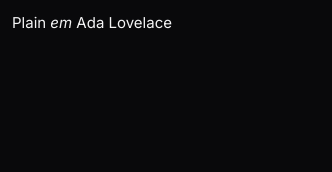
Test: TextBlockCell (M9) › test unchanged value not rewritten
This screenshot has width=332, height=172.
Later steps or results of the test are not shown.
Click the button with aria-label "Edit Summary": (92, 22) [12,13,172,32]
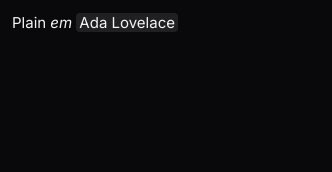
Press Enter in the field labelled "Plain em Ada Lovelace", box [12,13,178,32]
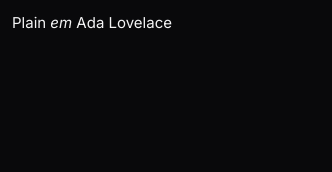
Check: the field is gone
